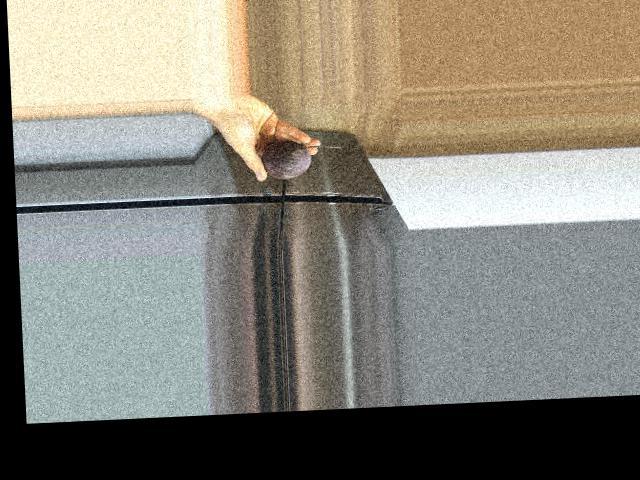beet: (261, 138, 344, 180)
